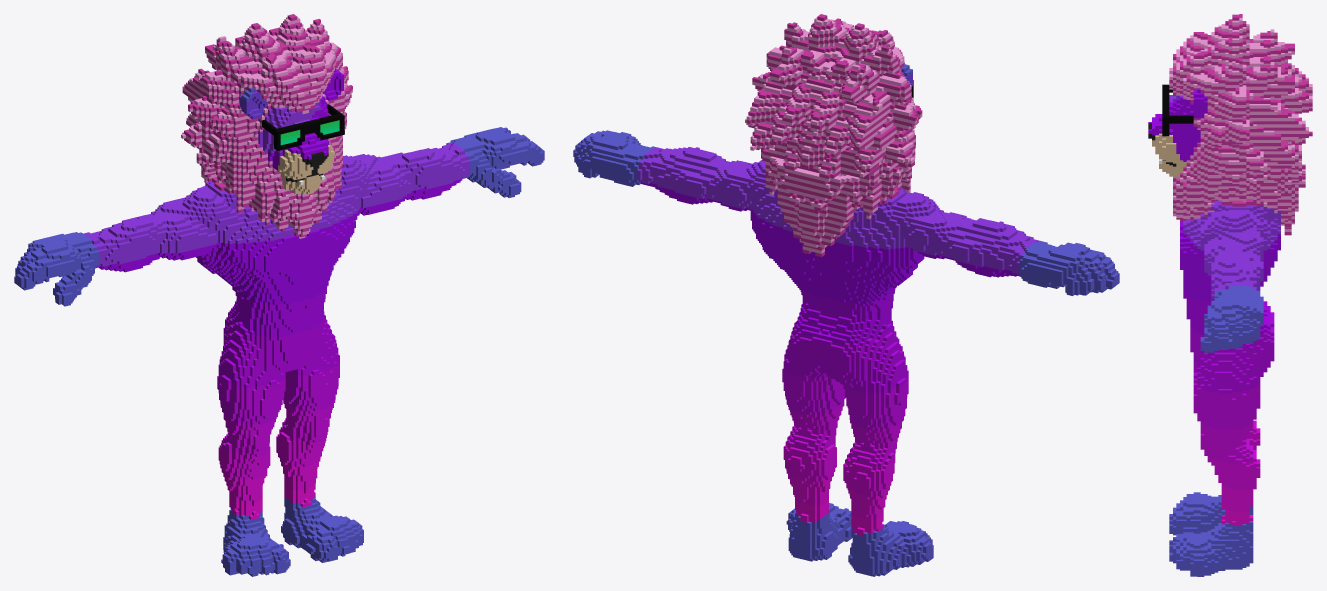
File: 684-Ebg_Z7QV.glb
The picture shows the model from 3 angles, left to right: view 1: azimuth 30°, elevation 25°; view 2: azimuth 150°, elevation 25°; view 3: azimuth 270°, elevation 25°; orthographic projection. The views are drawn at different scales.
Parts seen in each view (by area): view 1: standard; view 2: standard; view 3: standard.
Part boxes in pixels (x1=…): standard: x1=14, y1=14, x2=544, y2=576; standard: x1=573, y1=14, x2=1119, y2=576; standard: x1=1148, y1=14, x2=1312, y2=576.
Bounding box in the file's own units: 17.2 × 16.5 × 4.7.
Materials: 4 (4 with a texture image).
